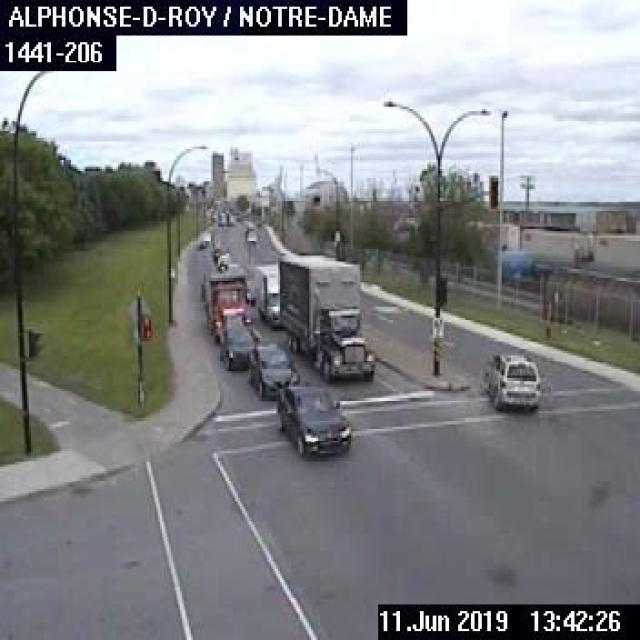vehicle: (276, 251, 374, 380), (272, 379, 352, 458), (199, 268, 259, 344), (482, 351, 540, 409), (248, 340, 299, 398), (216, 317, 258, 371), (250, 260, 281, 328)
